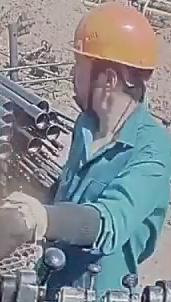gloves: (0, 190, 58, 261)
helmet: (68, 1, 160, 70)
vest: (39, 104, 171, 286)
